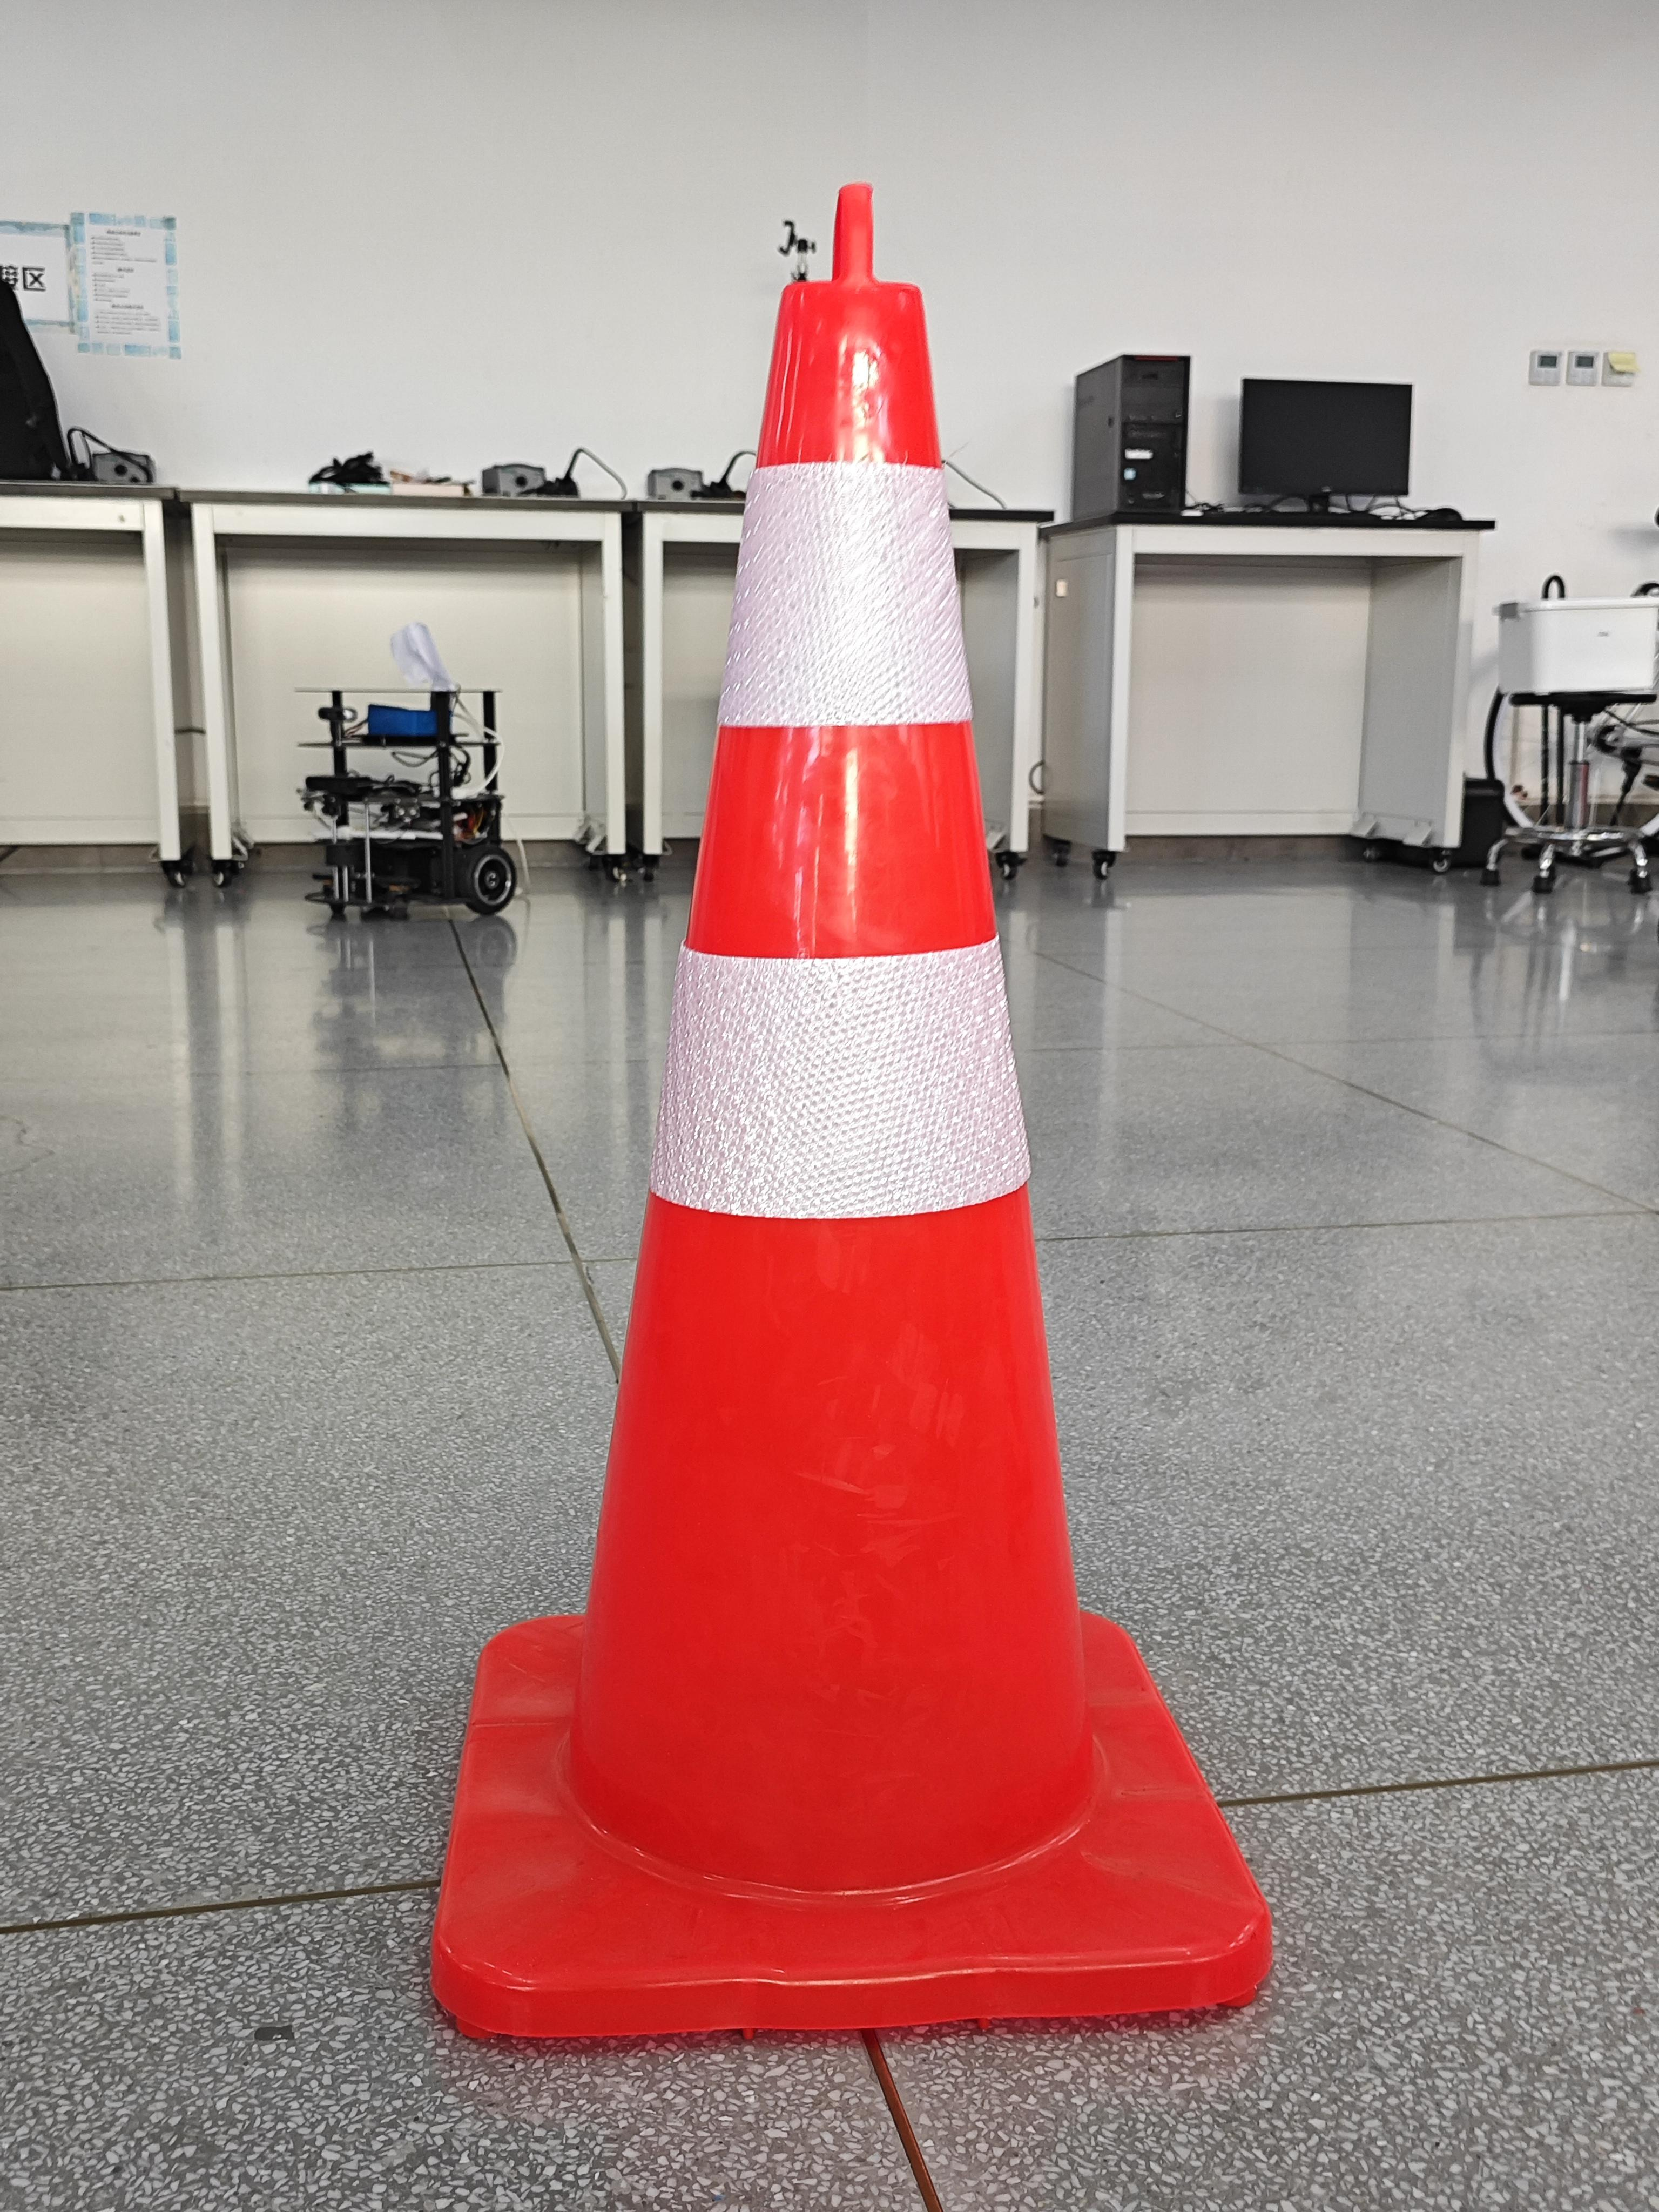cone: (434, 186, 1269, 2034)
